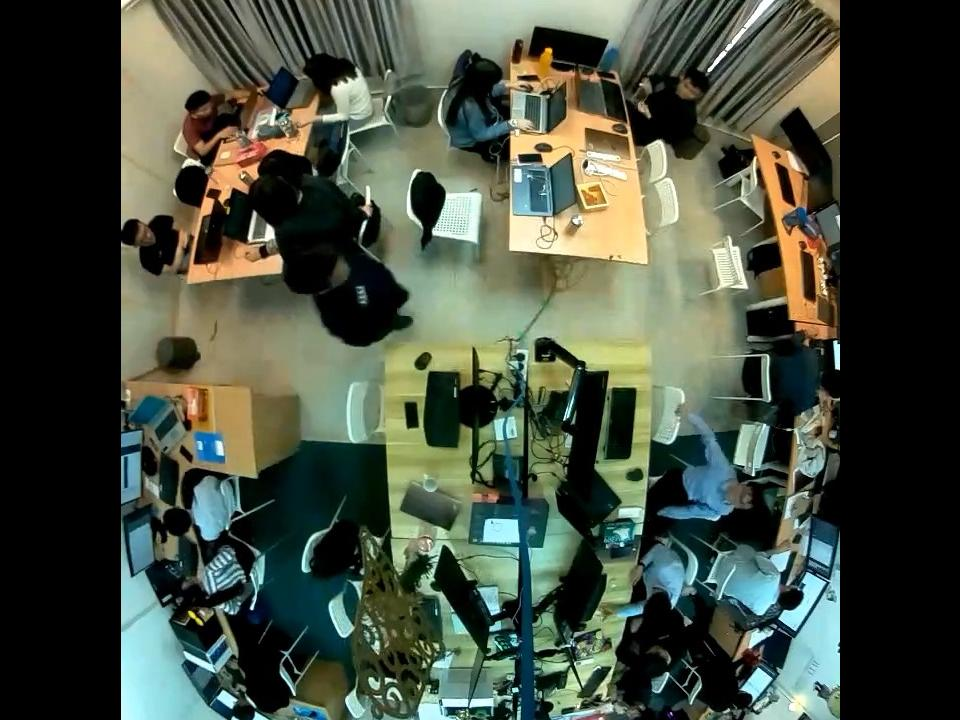name-tag: (350, 282, 372, 306)
